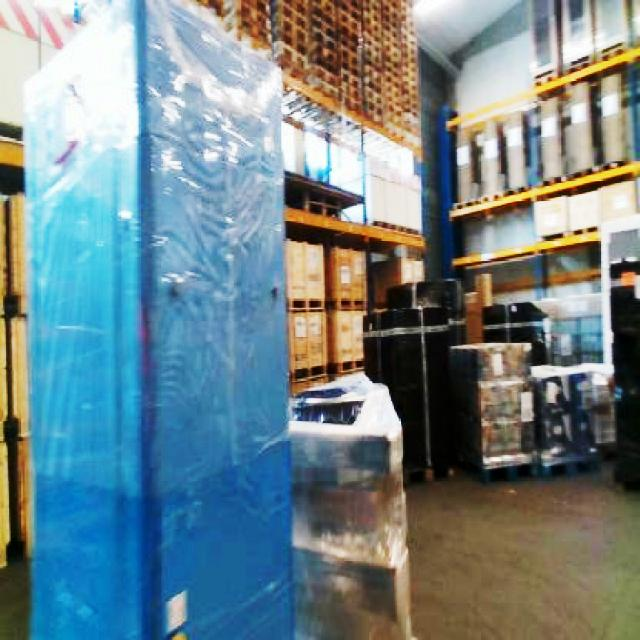ground: (0, 449, 638, 638)
pallet: (445, 18, 638, 468), (171, 0, 423, 160), (283, 203, 425, 395), (448, 155, 638, 269), (448, 340, 535, 482), (0, 186, 29, 588), (602, 209, 638, 497)
